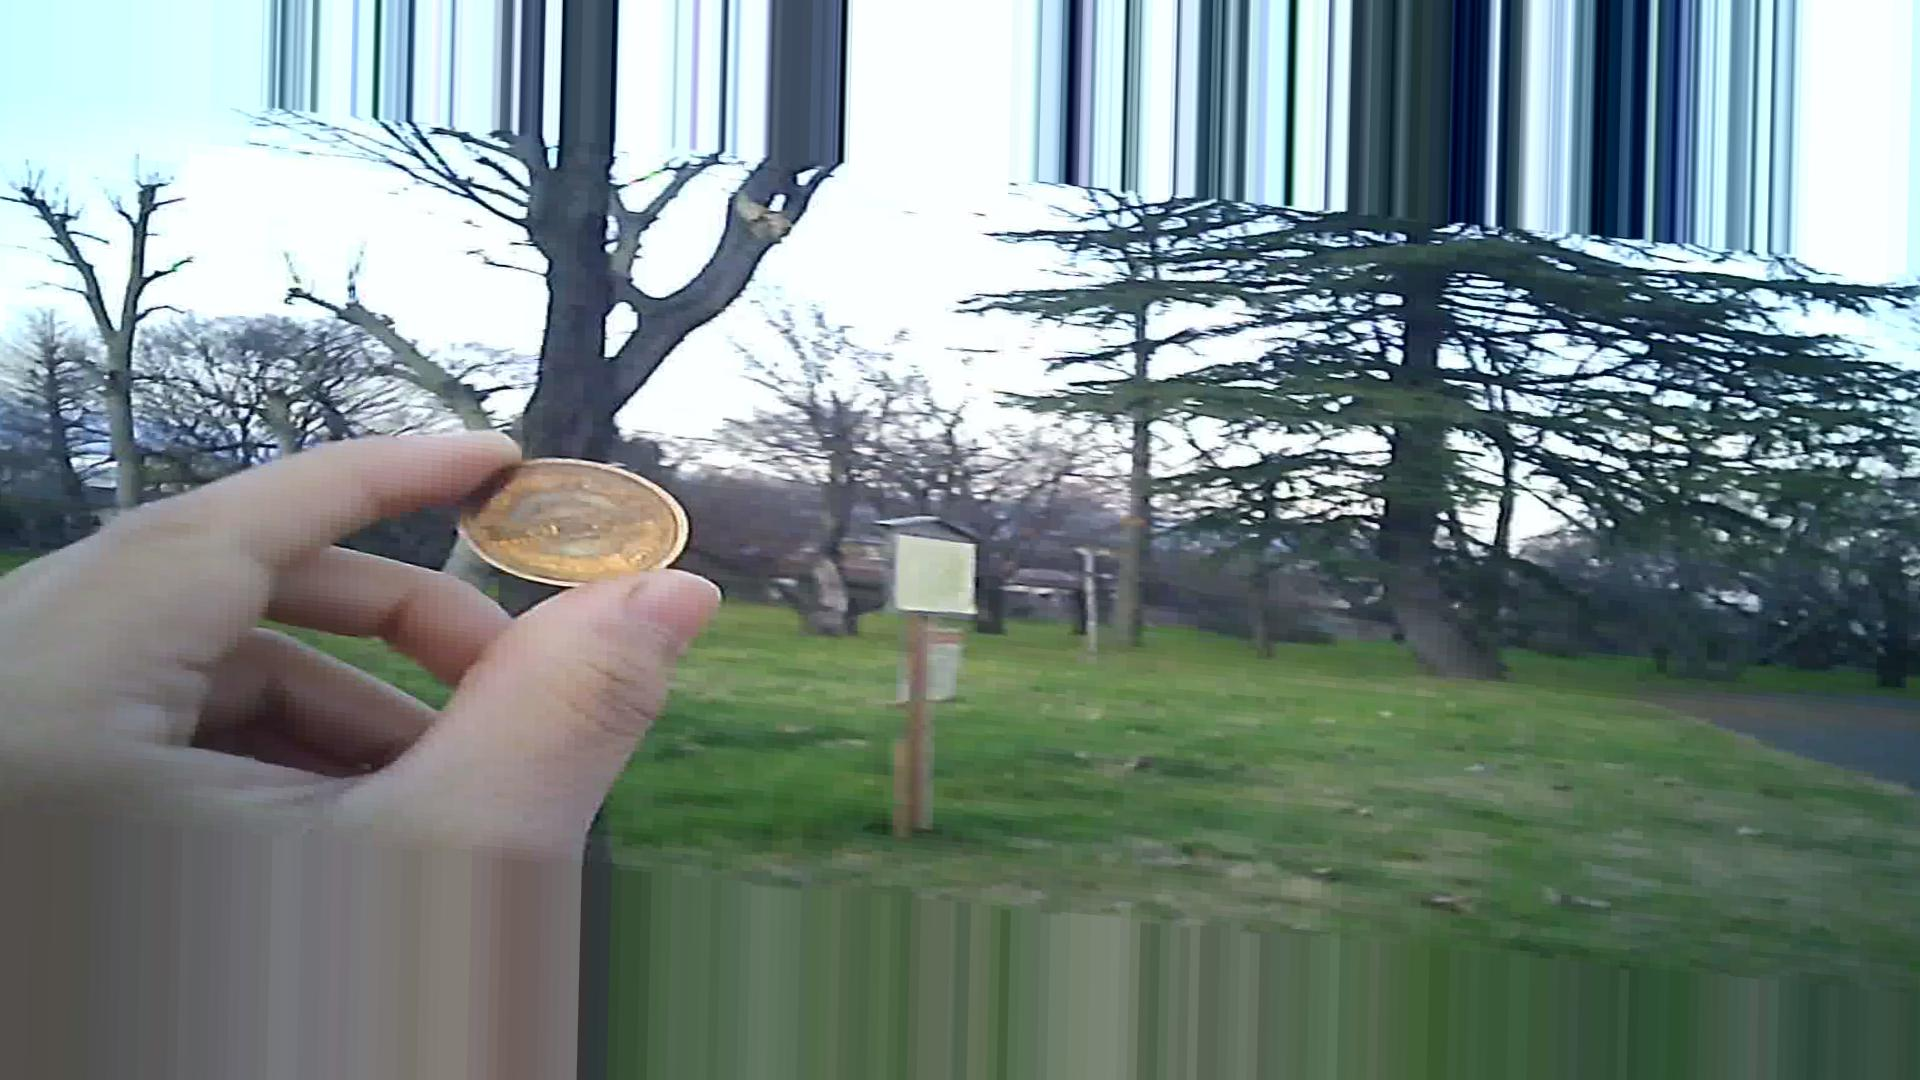10 Yen: (446, 439, 679, 605)
